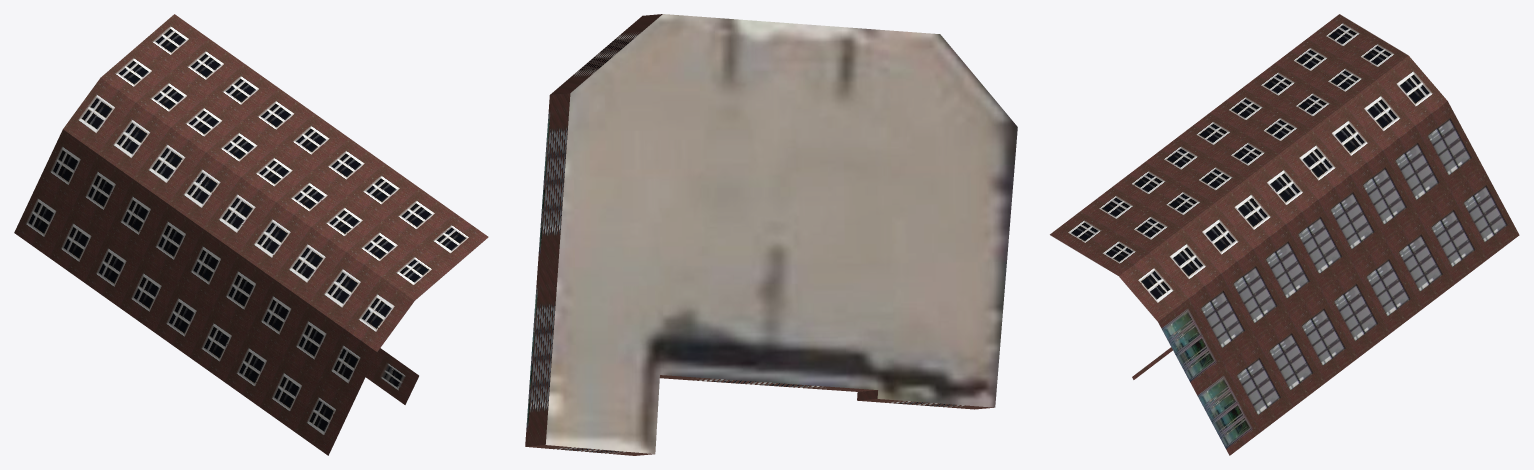
3 views of the same model, side by side, from view 1: azimuth 30°, elevation 25°; view 2: azimuth 150°, elevation 25°; view 3: azimuth 270°, elevation 25° (orthographic). The views are drawn at different scales.
Bounding box in the file's own units: 32.64 × 29.75 × 39.
Materials: 4 (4 with a texture image).
